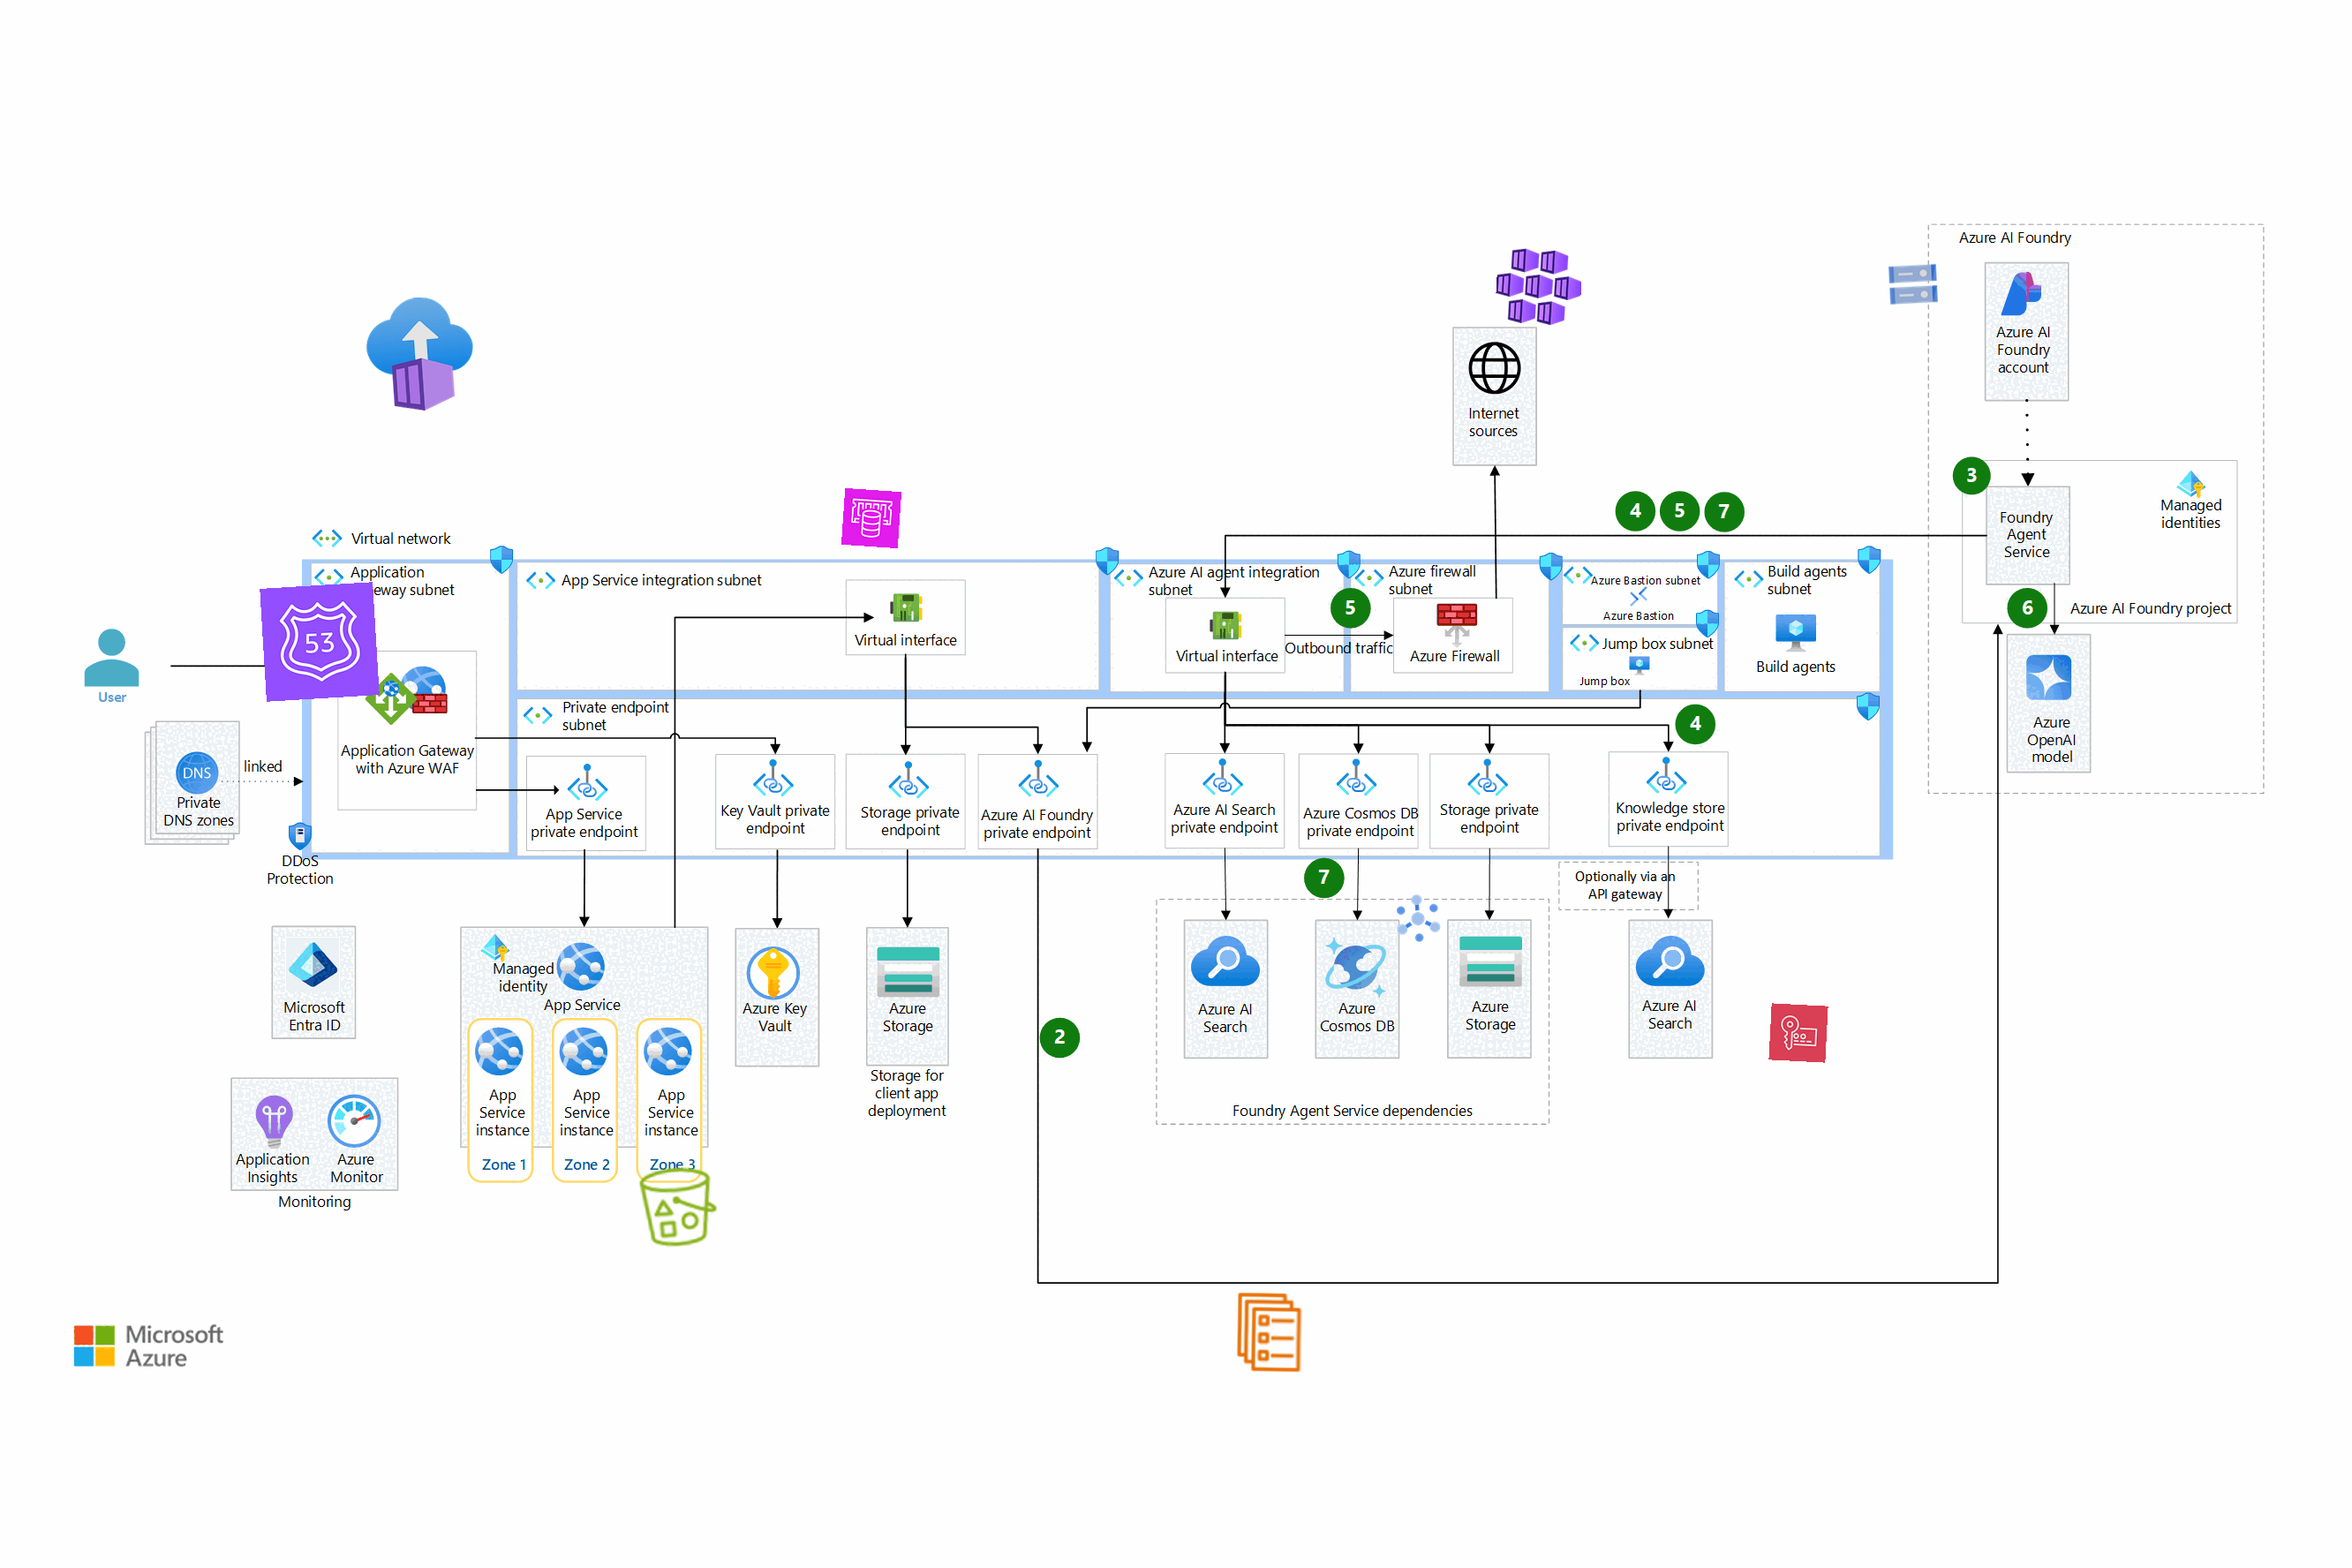aws_amazon_elasticache: (840, 487, 903, 549)
aws_amazon_route_53: (259, 581, 380, 702)
aws_elastic_container_service_service: (1227, 1290, 1312, 1375)
aws_key_management_service: (1769, 1003, 1829, 1062)
aws_simple_storage_service_bucket_with_objects: (633, 1160, 724, 1253)
azure_container_instances: (359, 292, 481, 415)
azure_kubernetes_services: (1494, 241, 1584, 331)
gcp_cloud_storage: (1883, 254, 1942, 315)
gcp_pubsub: (1388, 887, 1449, 949)
